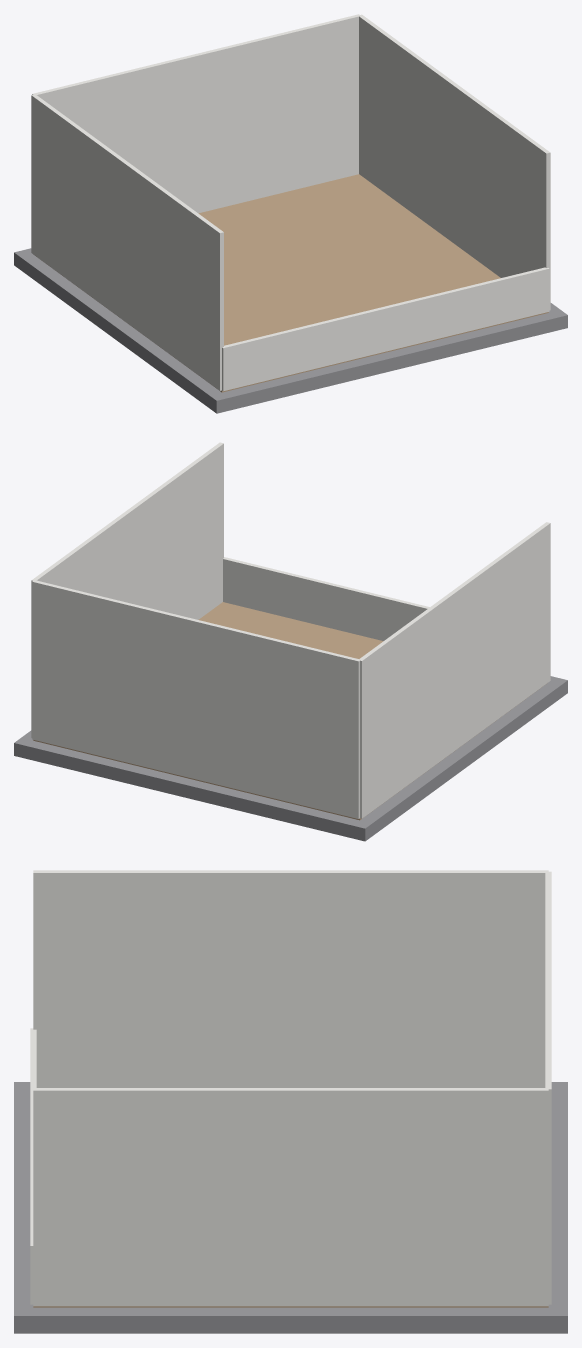
Rendered from twobed.glb.
3 renders of one model, top to bottom at view 1: azimuth 30°, elevation 25°; view 2: azimuth 150°, elevation 25°; view 3: azimuth 270°, elevation 25°, orthographic. The views are drawn at different scales.
Parts seen in each view (by area): view 1: Wall_N, Wall_W, Wall_E, Floor_63m2, Wall_S_low, Slab; view 2: Wall_N, Wall_W, Wall_E, Slab, Wall_S_low, Floor_63m2; view 3: Wall_E, Wall_W, Slab, Wall_N, Wall_S_low, Floor_63m2.
Part boxes in pixels (left/top/right/bottom): Wall_N: left=32, top=14, right=359, bottom=213; Wall_W: left=31, top=95, right=223, bottom=390; Wall_E: left=358, top=14, right=550, bottom=310; Floor_63m2: left=36, top=174, right=548, bottom=392; Wall_S_low: left=222, top=267, right=549, bottom=391; Slab: left=14, top=248, right=567, bottom=413; Wall_N: left=32, top=580, right=360, bottom=818; Wall_W: left=359, top=522, right=550, bottom=818; Wall_E: left=31, top=442, right=223, bottom=737; Slab: left=14, top=676, right=567, bottom=841; Wall_S_low: left=223, top=557, right=429, bottom=640; Floor_63m2: left=33, top=602, right=542, bottom=820; Wall_E: left=33, top=1088, right=548, bottom=1306; Wall_W: left=33, top=870, right=548, bottom=1087; Slab: left=14, top=1082, right=567, bottom=1333; Wall_N: left=545, top=871, right=551, bottom=1304; Wall_S_low: left=30, top=1028, right=36, bottom=1304; Floor_63m2: left=33, top=1306, right=548, bottom=1307.
Bounding box in the file's own units: 8.54 × 4.01 × 8.54.
